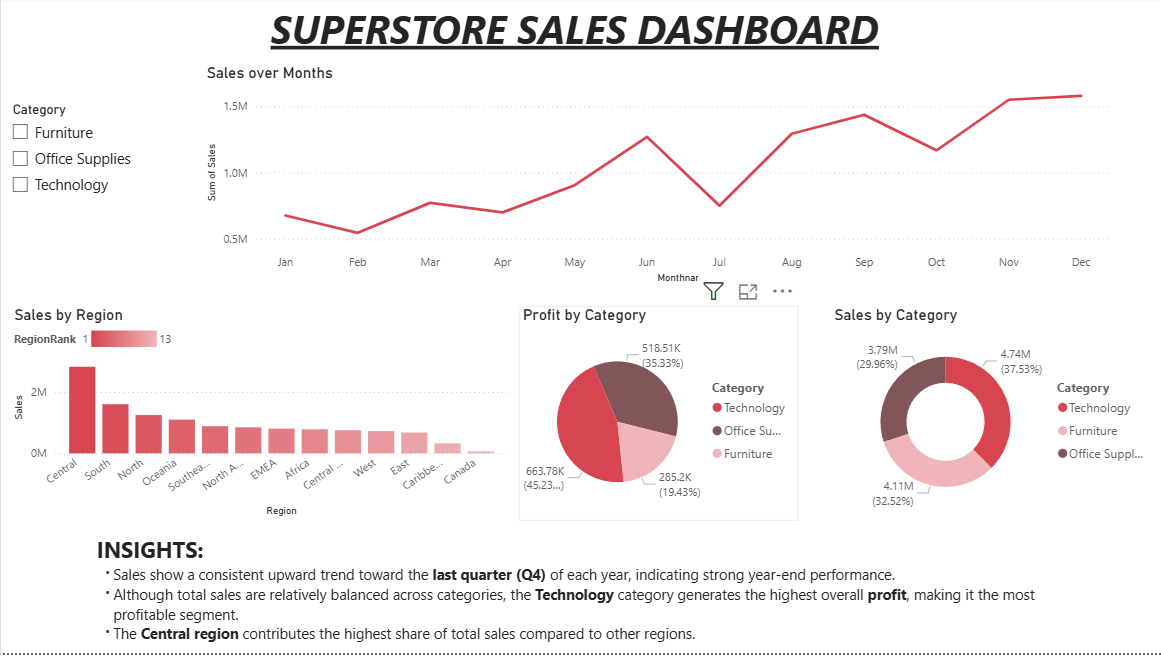

The page's visual inventory and layout, read from the dashboard file:
{"tool":"powerbi","page":{"name":"Page 1","canvas":[1280,720],"ordinal":0},"visuals":[{"type":"lineChart","title":"Sales over Months","fields":{"Y":["Sum(Orders.Sales)"],"Category":["Orders.Monthname"]},"box":[220.9,72.7,1001.7,247],"z":0},{"type":"clusteredColumnChart","title":"Sales by Region","fields":{"Y":["Sum(Orders.Sales)"],"Category":["Orders.Region"]},"box":[9.6,338.9,551.6,236],"z":1},{"type":"donutChart","title":"Sales by Category","fields":{"Y":["Sum(Orders.Sales)"],"Category":["Orders.Category"]},"box":[909.8,338.9,359.5,236],"z":2},{"type":"slicer","fields":{"Values":["Orders.Category"]},"box":[0,109.8,177,192.1],"z":3},{"type":"textbox","box":[9.6,0,1240.5,72.7],"z":4},{"type":"textbox","box":[100.2,585.9,1082.7,134.5],"z":5},{"type":"pieChart","title":"Profit by Category","fields":{"Y":["Sum(Orders.Profit)"],"Category":["Orders.Category"]},"box":[568.1,338.9,307.4,236],"z":6}]}

Visuals, with their boxes in screenshot pixels (x1, y1, x2, y2), scaled from the page's 1280x720 canvas onto the 1161x656 screenshot:
"Sales over Months" lineChart: (200,66,1109,291)
"Sales by Region" clusteredColumnChart: (9,309,509,524)
"Sales by Category" donutChart: (825,309,1151,524)
slicer - Orders.Category: (0,100,161,275)
textbox: (9,0,1134,66)
textbox: (91,534,1073,655)
"Profit by Category" pieChart: (515,309,794,524)
